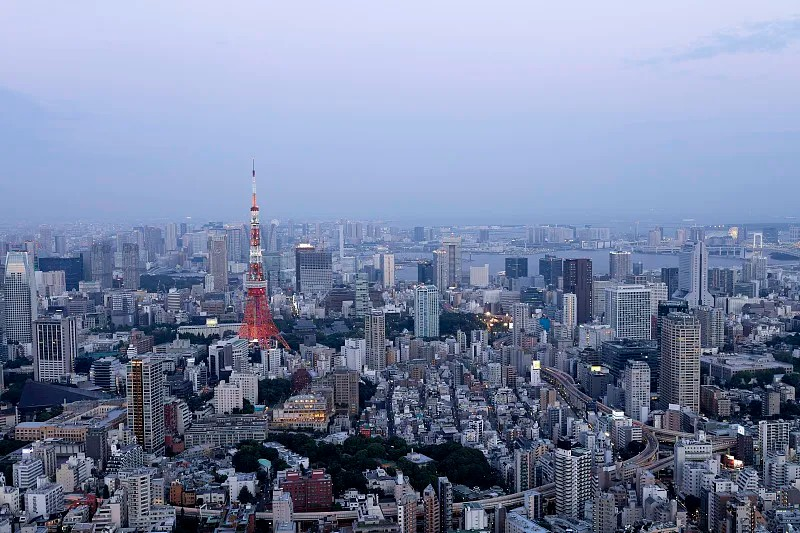Tokyo: (234, 156, 293, 353)
